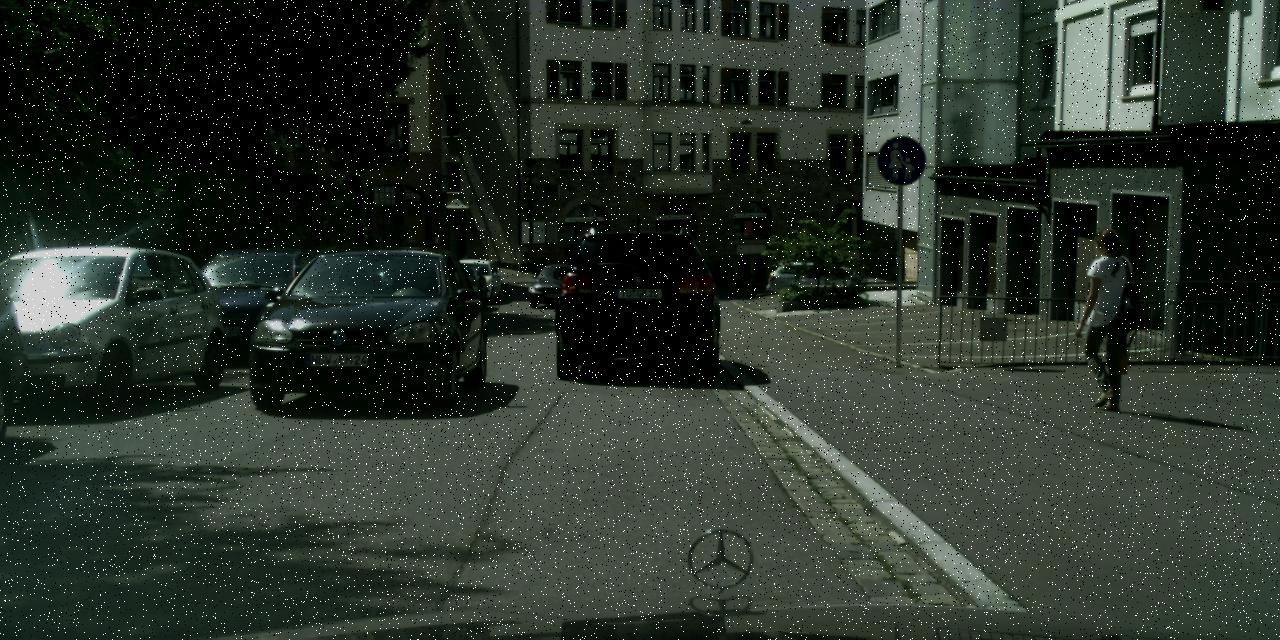ped: (1072, 228, 1144, 404)
